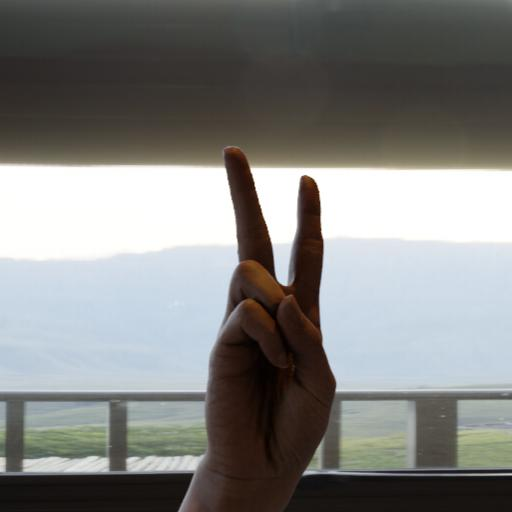V: (185, 133, 347, 512)
